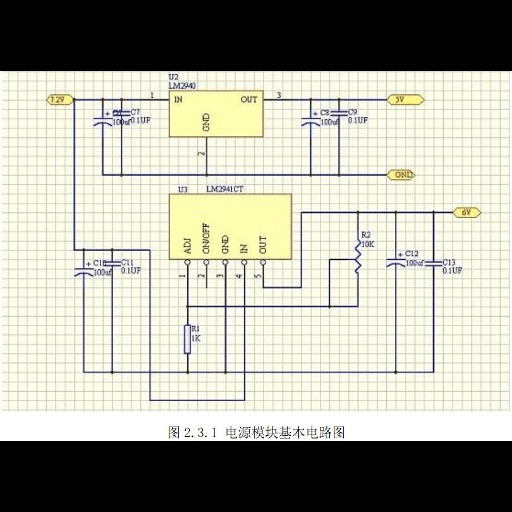capacitor: (329, 107, 349, 118), (102, 257, 122, 268), (424, 258, 443, 269), (113, 107, 131, 118)
firstpolarcapacitor: (299, 110, 321, 132), (90, 110, 111, 133), (74, 259, 94, 283), (383, 251, 406, 271)
firstresistance: (181, 322, 192, 358)
secondresistance: (352, 236, 362, 278)
